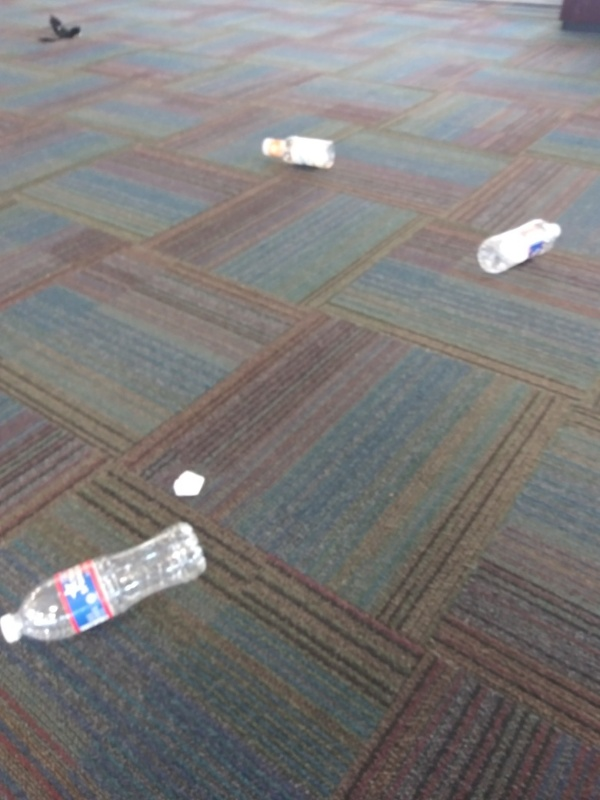bottle: (1, 513, 214, 654), (473, 216, 566, 278), (256, 131, 339, 173)
